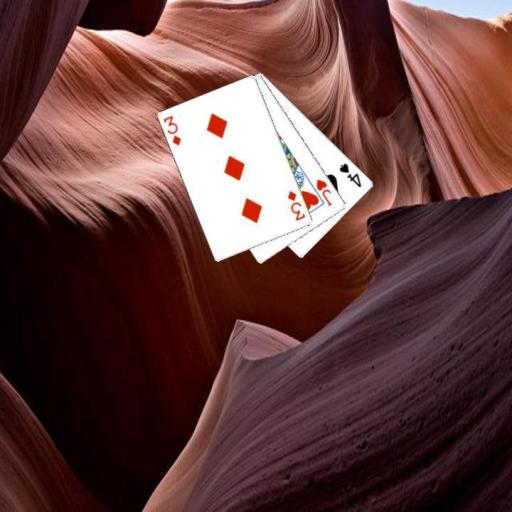card-corner: (160, 112, 183, 148), (284, 188, 308, 222), (336, 160, 363, 188), (313, 176, 333, 208)
